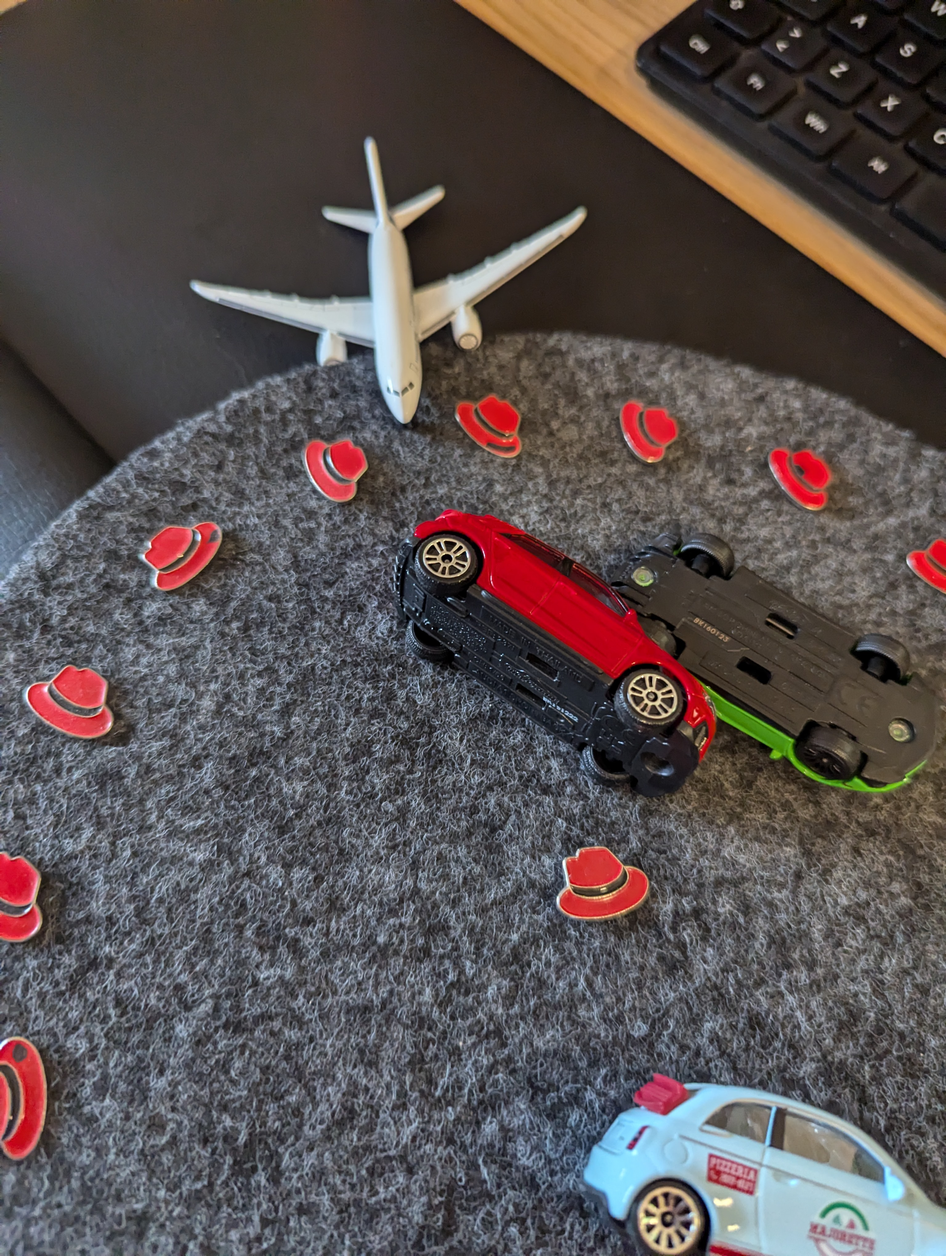Airplane: (144, 102, 649, 435)
Car: (571, 514, 941, 816), (378, 502, 715, 804), (561, 1049, 946, 1256)
Red-Hat: (524, 827, 701, 977), (1, 644, 150, 755), (117, 501, 240, 613), (0, 1009, 79, 1168), (439, 373, 543, 489), (746, 431, 851, 529), (597, 380, 694, 476), (286, 427, 385, 513), (0, 838, 69, 949), (882, 519, 946, 603)
Scratch: (472, 426, 527, 464), (0, 1028, 42, 1070), (191, 517, 233, 557), (787, 450, 814, 489)
